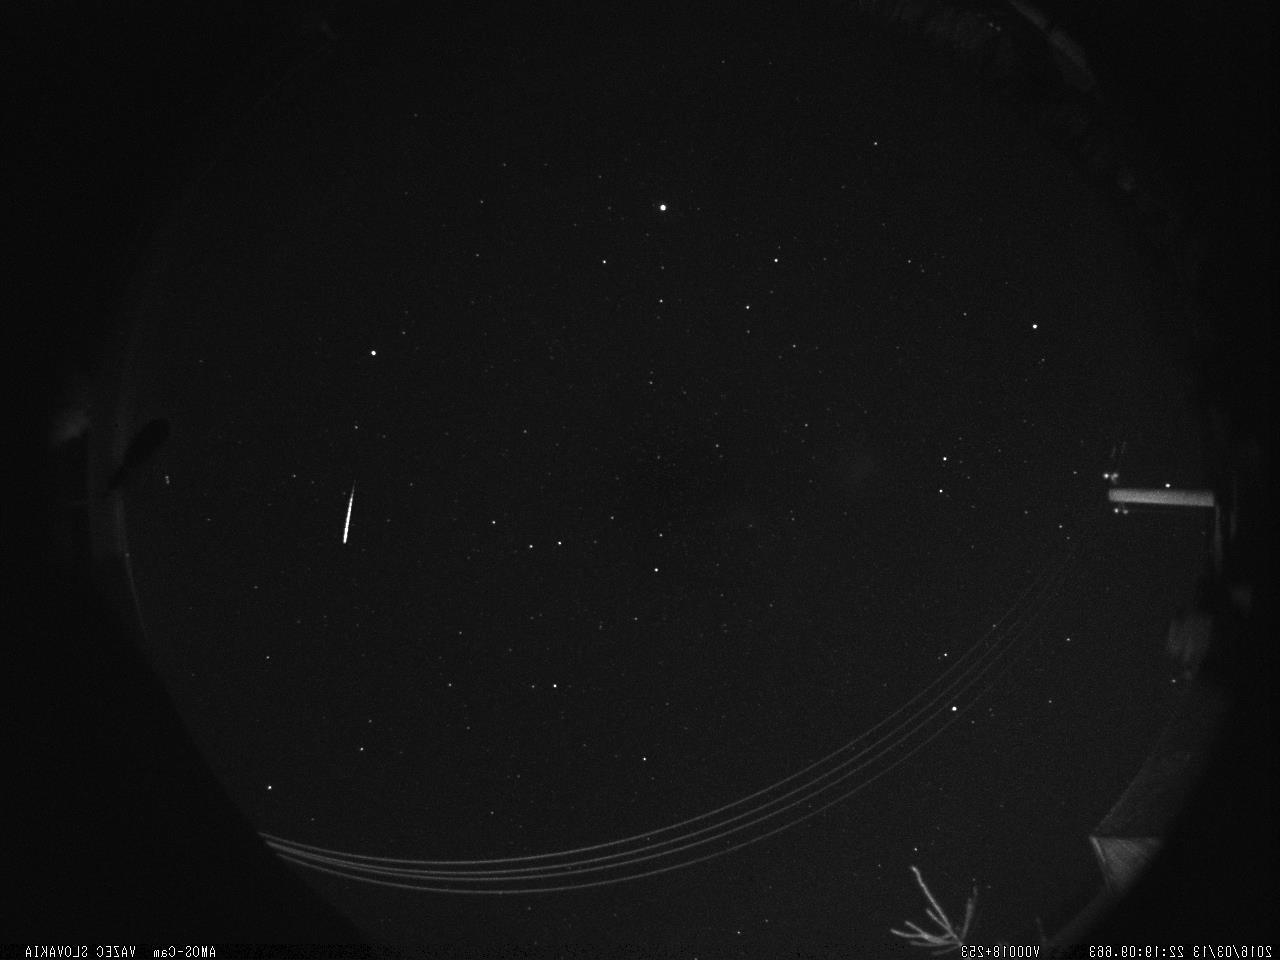meteor: (330, 477, 366, 556)
